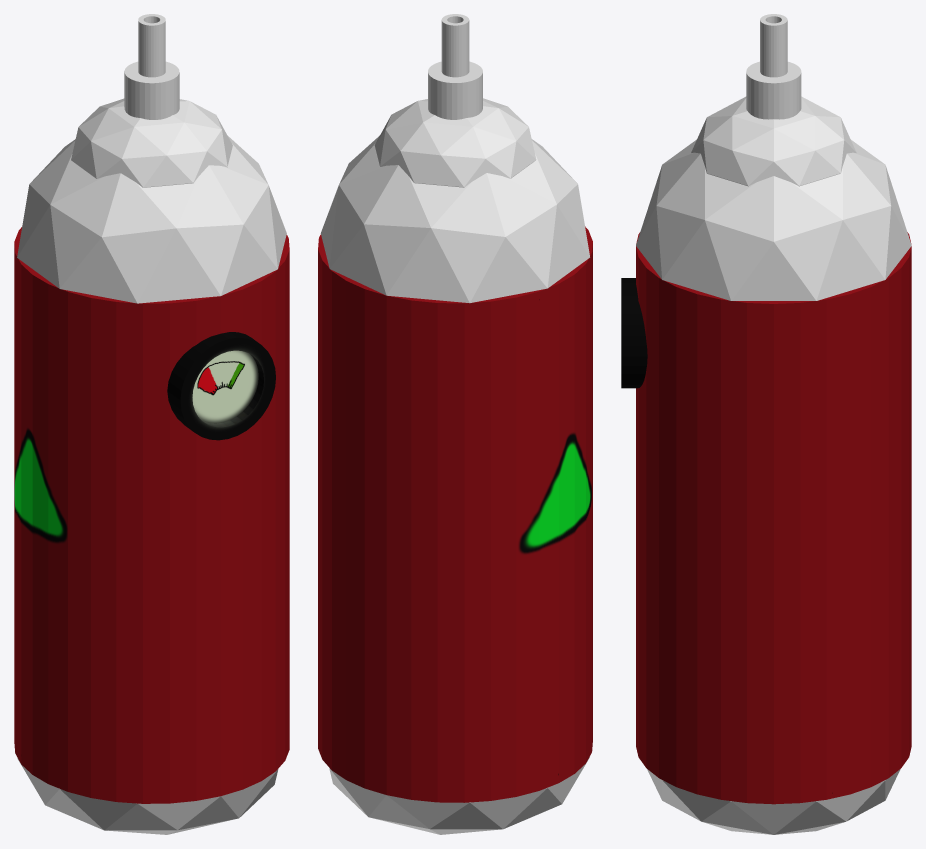
File: propane.fbx
3 renders of one model, left to right at view 1: azimuth 30°, elevation 25°; view 2: azimuth 150°, elevation 25°; view 3: azimuth 270°, elevation 25°, orthographic.
Visible parts, largest first — view 1: Cylinder, Icosphere.001, Icosphere.003, Cylinder.005, Icosphere.002, Cylinder.002, Cylinder.003; view 2: Cylinder, Icosphere.001, Icosphere.003, Icosphere.002, Cylinder.002, Cylinder.003; view 3: Cylinder, Icosphere.001, Icosphere.003, Icosphere.002, Cylinder.002, Cylinder.005, Cylinder.003.
Boxes of the visible parts, <box> form: Cylinder: <box>14,227,289,803</box>; Icosphere.001: <box>17,136,286,303</box>; Icosphere.003: <box>71,98,232,187</box>; Cylinder.005: <box>167,332,275,440</box>; Icosphere.002: <box>17,757,278,834</box>; Cylinder.002: <box>124,61,179,119</box>; Cylinder.003: <box>138,14,165,77</box>; Cylinder: <box>318,226,592,802</box>; Icosphere.001: <box>320,135,589,303</box>; Icosphere.003: <box>374,98,536,187</box>; Icosphere.002: <box>329,756,590,834</box>; Cylinder.002: <box>428,61,482,119</box>; Cylinder.003: <box>441,14,469,77</box>; Cylinder: <box>636,232,911,804</box>; Icosphere.001: <box>636,139,911,300</box>; Icosphere.003: <box>691,96,856,186</box>; Icosphere.002: <box>647,769,900,834</box>; Cylinder.002: <box>746,61,801,119</box>; Cylinder.005: <box>621,278,647,388</box>; Cylinder.003: <box>760,14,787,77</box>.
Bounding box in the file's own units: 100 × 314 × 105.
